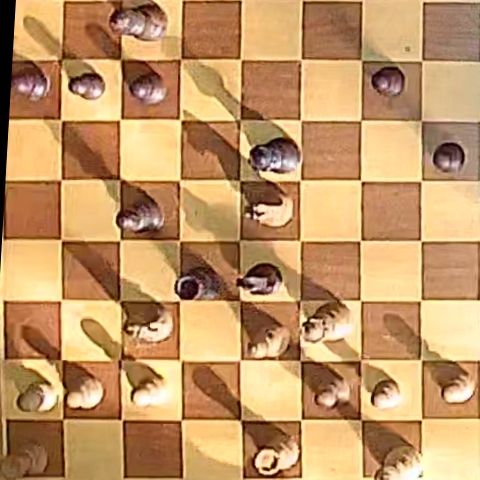black-bishop: (116, 199, 165, 235)
black-king: (111, 2, 167, 41)
black-knight: (237, 263, 283, 296)
black-pawn: (130, 72, 168, 105), (12, 70, 51, 102), (68, 71, 106, 100), (372, 66, 405, 97), (433, 142, 465, 173)
black-queen: (249, 138, 300, 174)
black-rook: (175, 267, 221, 300)
white-bishop: (247, 323, 291, 359)
white-king: (373, 445, 423, 479)
white-knight: (123, 302, 173, 344), (245, 192, 293, 227)
white-pawn: (66, 373, 104, 410), (18, 381, 57, 413), (129, 375, 168, 407), (313, 377, 352, 409), (440, 371, 474, 404), (371, 380, 402, 410)
white-queen: (299, 301, 352, 343)
white-rook: (253, 431, 299, 476), (1, 440, 47, 479)
